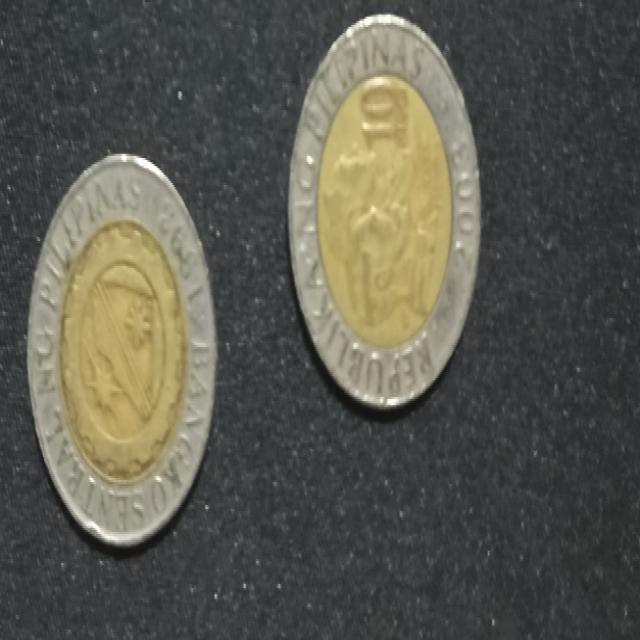10_peso: (290, 17, 479, 405), (28, 154, 216, 544)
